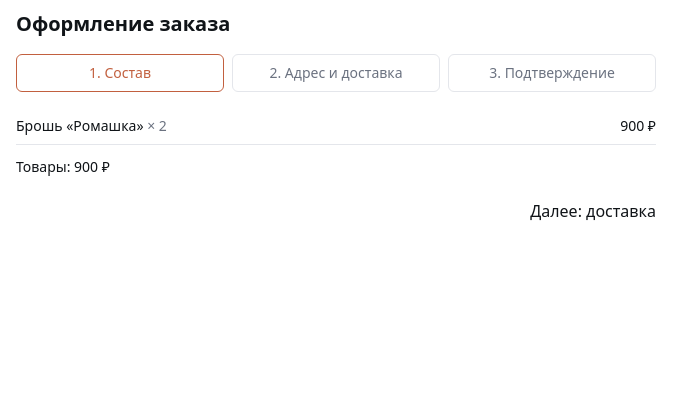
Test: CheckoutPage — итог заказа › помечает стоимость доставки как ориентировочную
This screenshot has width=673, height=417.
Click the button "Далее: доставка": click(593, 211) [530,189,656,233]
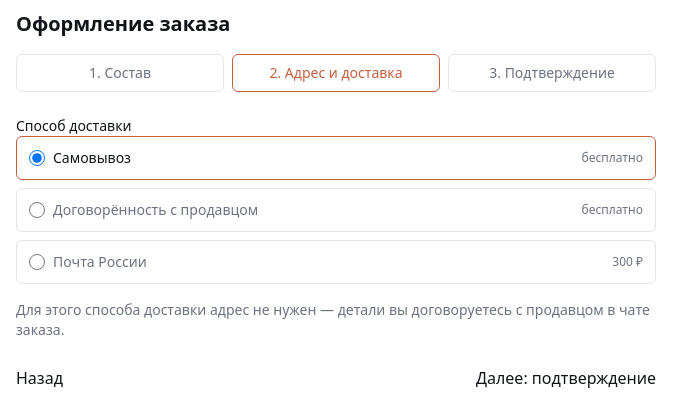
Click the button "Далее: подтверждение": click(566, 378) [476,356,656,400]
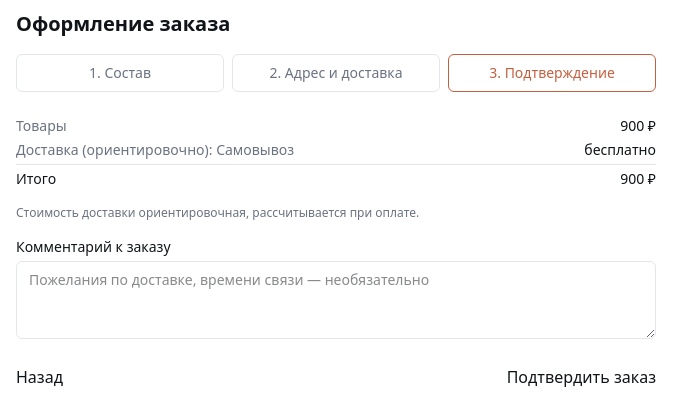
Expected: the text "Итого" shows "Доставка (ориентировочно)", [16,140,216,159]
Expected: the text "рассчитывается при оплате" is shown, [16,204,419,221]
